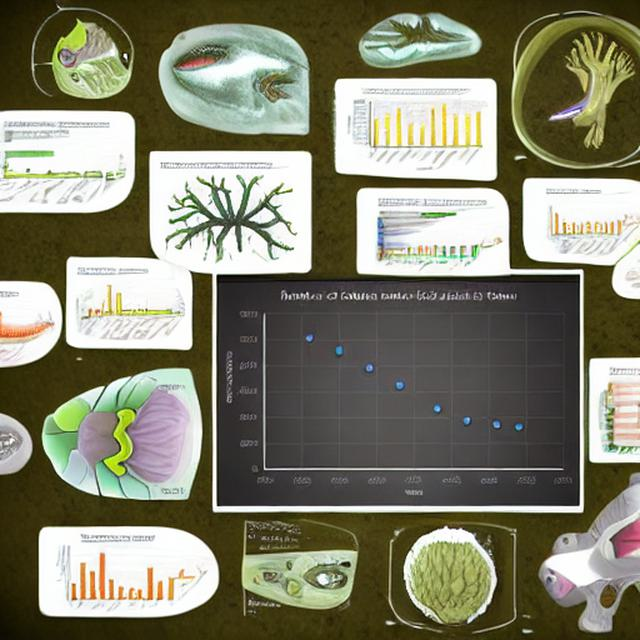Graph: (217, 282, 580, 506), (344, 85, 487, 171), (60, 533, 166, 614)
